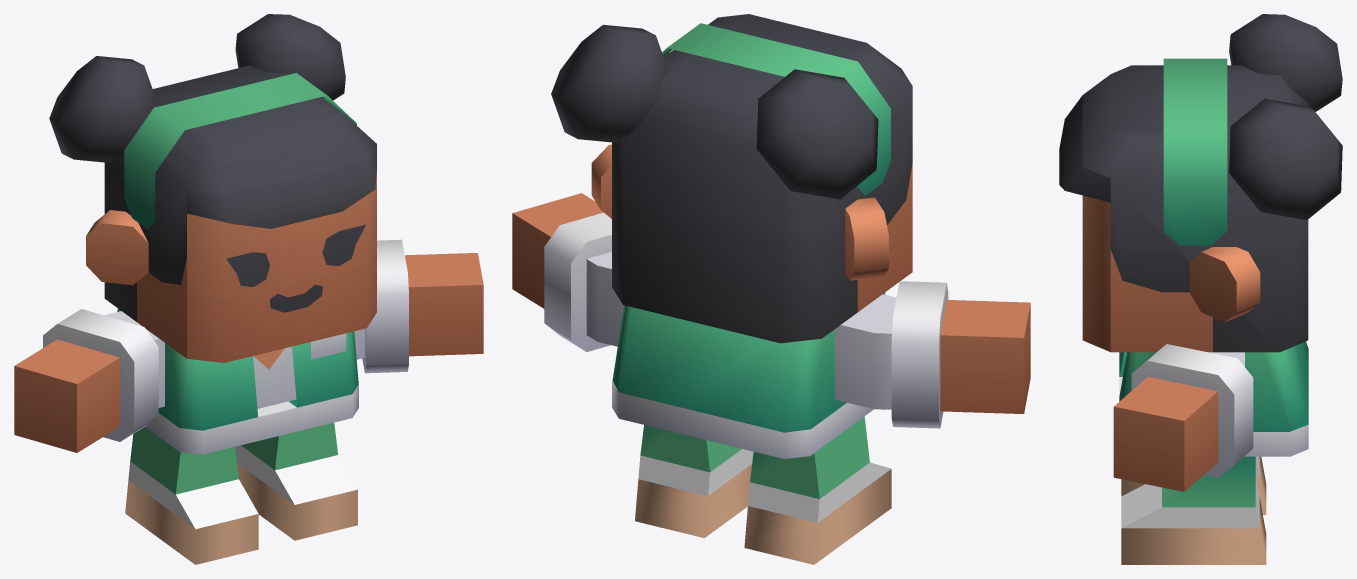
Rendered from cc0-employee-lod0.glb.
The picture shows the model from 3 angles, left to right: view 1: azimuth 30°, elevation 25°; view 2: azimuth 150°, elevation 25°; view 3: azimuth 270°, elevation 25°; orthographic projection. The views are drawn at different scales.
Visible parts, largest first — view 1: part_7; view 2: part_7; view 3: part_7.
Part boxes in pixels (x1,y1,x2,y2): part_7: (14, 14, 483, 564); part_7: (512, 14, 1030, 564); part_7: (1059, 14, 1342, 564).
Size of the model in its own units: 0.7806 by 0.7234 by 0.4014.
Materials: 1 (1 with a texture image).
